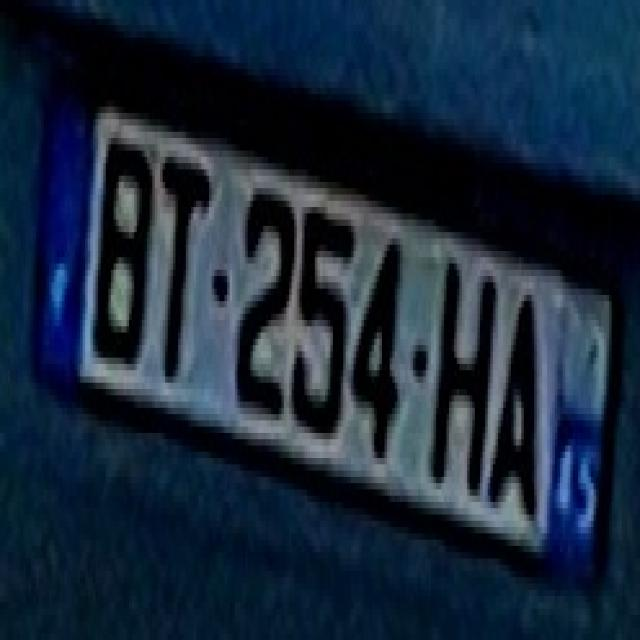EU: (30, 72, 616, 594)
France: (38, 93, 95, 379)
